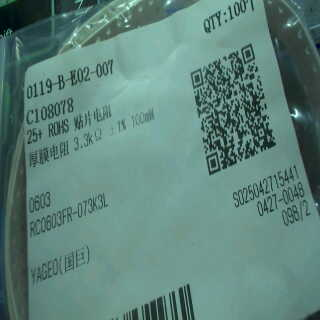3.3kO: (71, 125, 101, 155)
